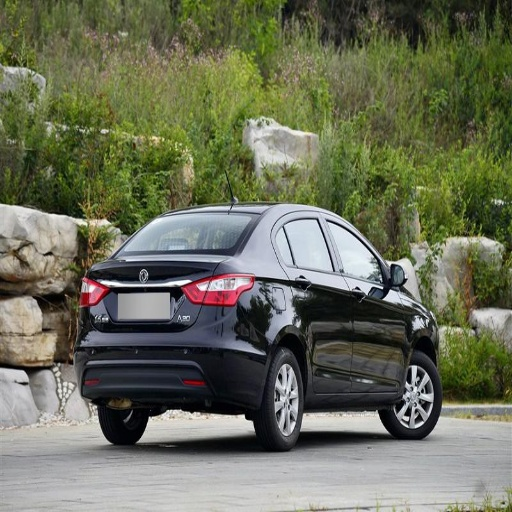back_bumper: (74, 304, 269, 408)
back_right_door: (273, 213, 351, 395)
tailgate: (93, 254, 212, 332)
